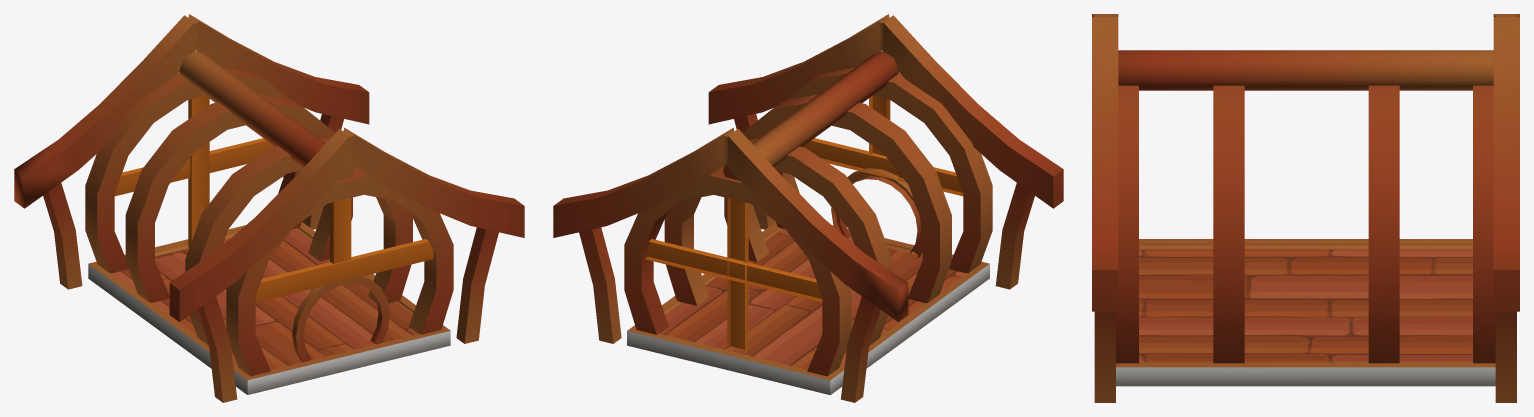
The model's file is VikingHouse_05_XL.fbx.
3 views of the same model, side by side, from view 1: azimuth 30°, elevation 25°; view 2: azimuth 150°, elevation 25°; view 3: azimuth 270°, elevation 25° (orthographic). The views are drawn at different scales.
Visible parts, largest first — view 1: VikingHouse_05_XL; view 2: VikingHouse_05_XL; view 3: VikingHouse_05_XL.
Boxes of the visible parts, x1,y1,x2,y2 form: VikingHouse_05_XL: [14, 14, 524, 402]; VikingHouse_05_XL: [553, 14, 1063, 402]; VikingHouse_05_XL: [1092, 14, 1519, 402].
Size of the model in its own units: 607 by 399 by 504.
